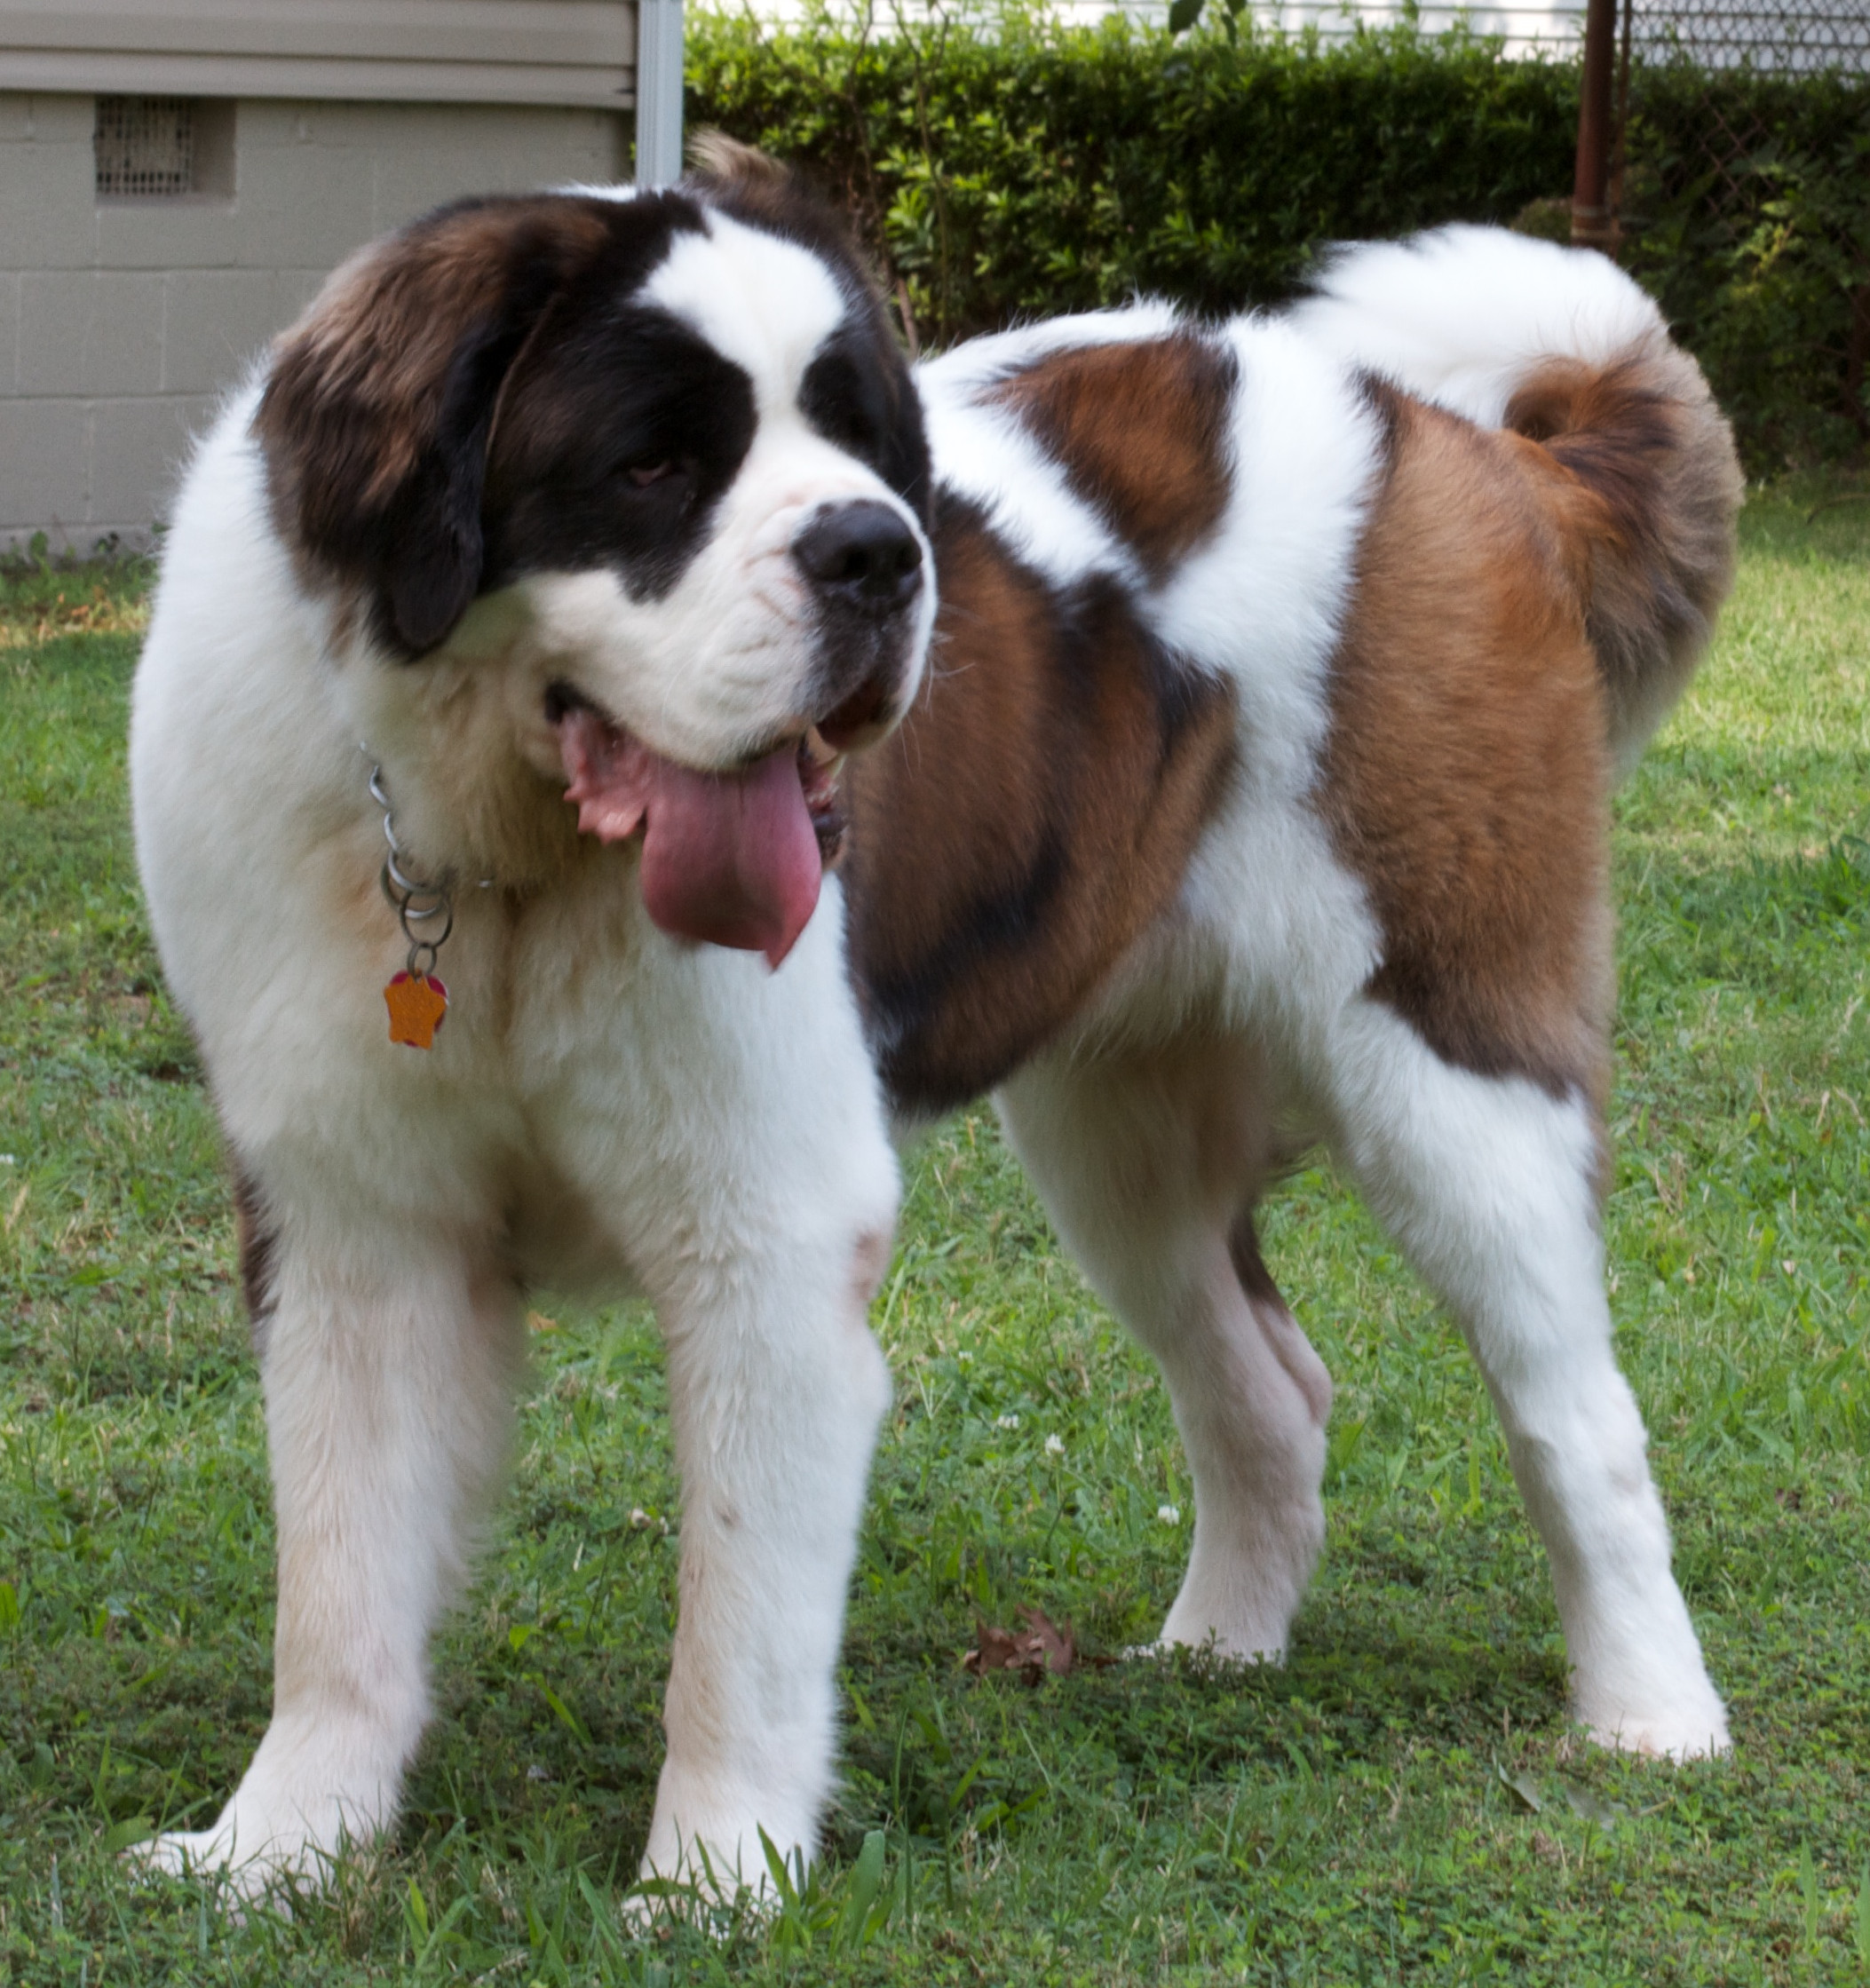dog: (0, 0, 1870, 1988)
